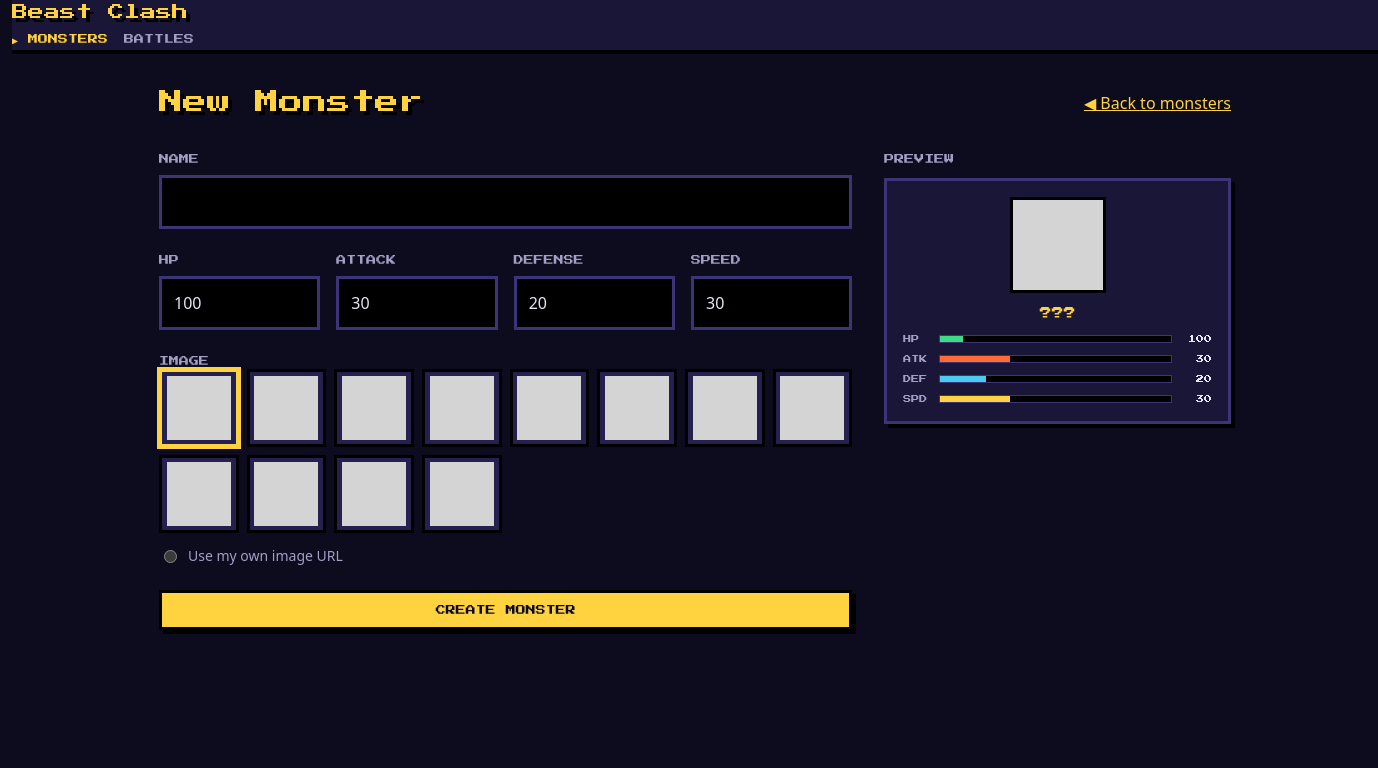
Test: MonsterCreatePage › clears a field error as soon as the user edits it
Click the button "Create monster" at (506, 610), box [159,590,852,630]
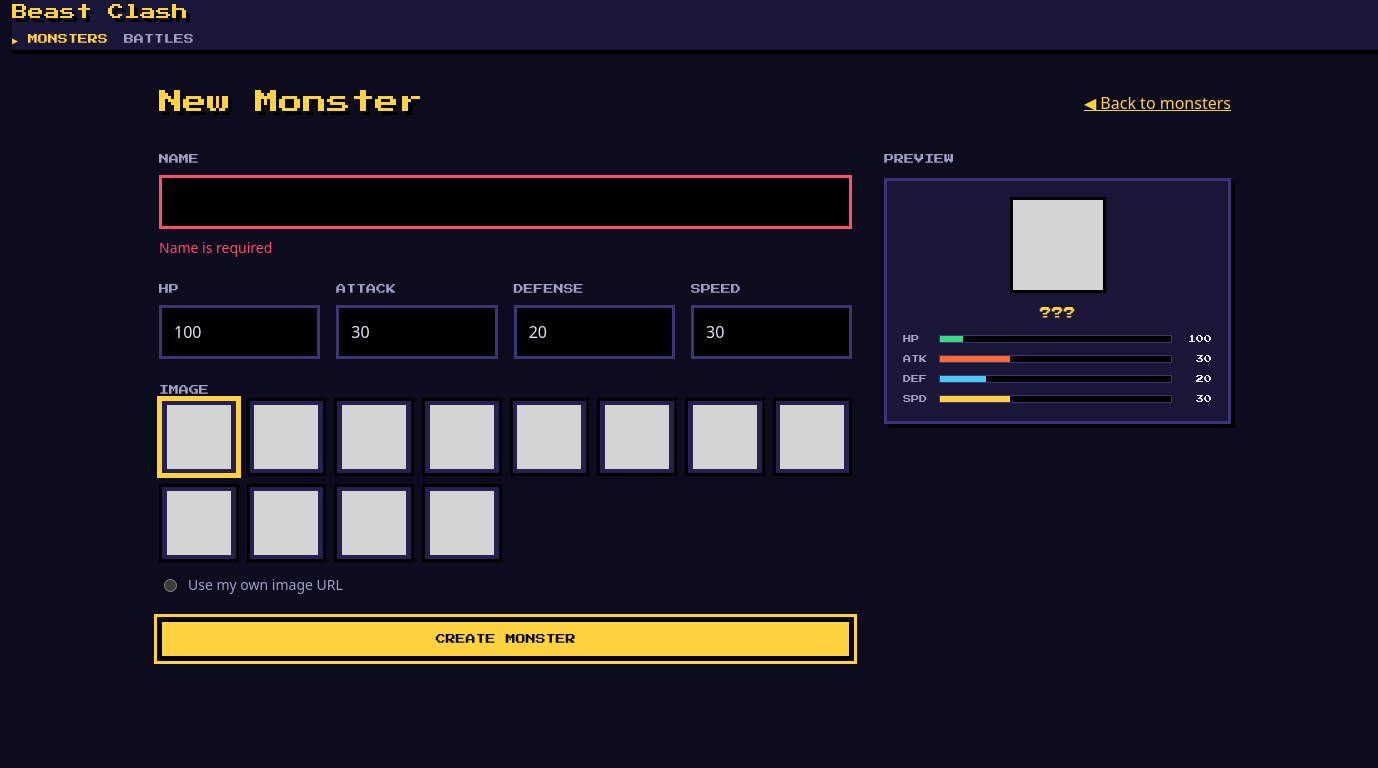
Check: the text "Name is required" is shown, box [159,238,272,257]
Type "E" into the field labelled "Name" at (506, 202), box [159,175,852,229]
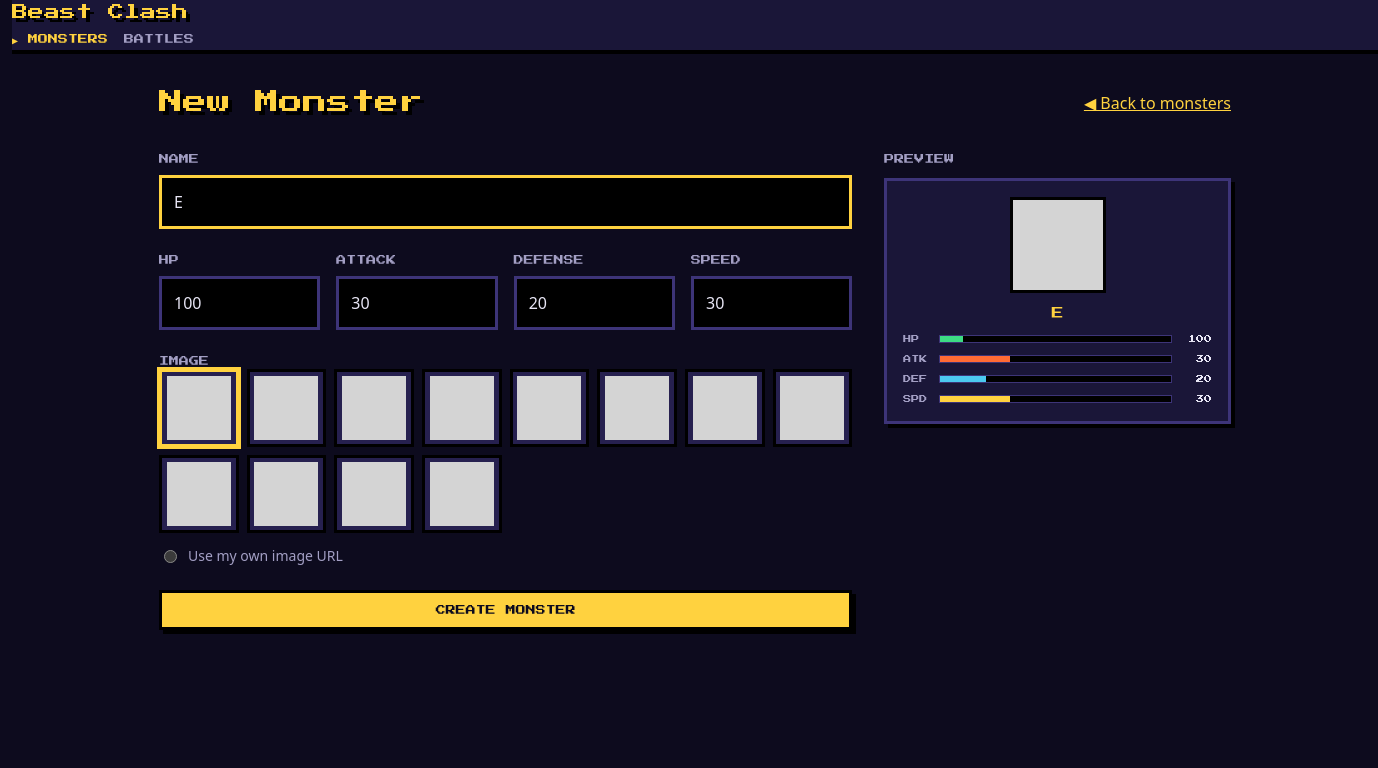
Check: the text "Name is required" is gone
